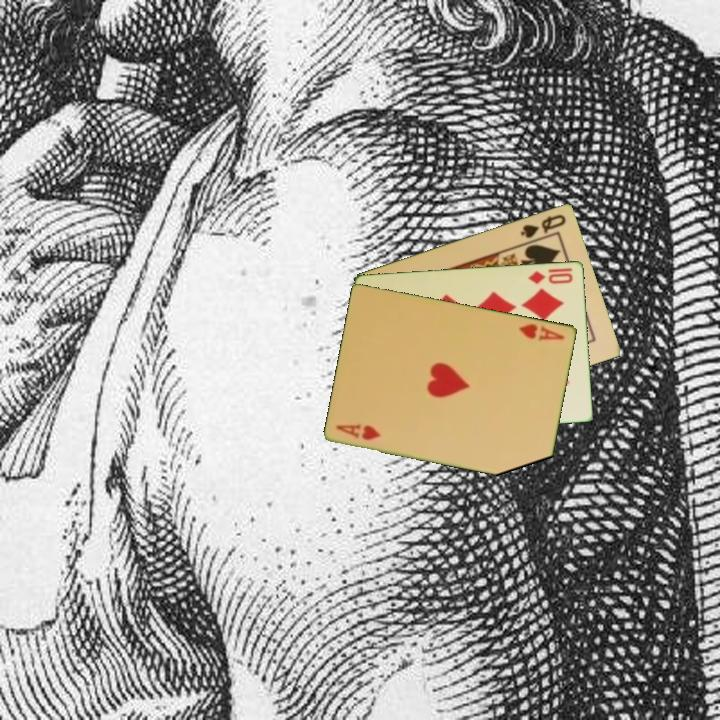10d: (525, 267, 576, 287)
Ah: (516, 320, 568, 344), (333, 421, 385, 443)
Qs: (517, 210, 569, 241)
